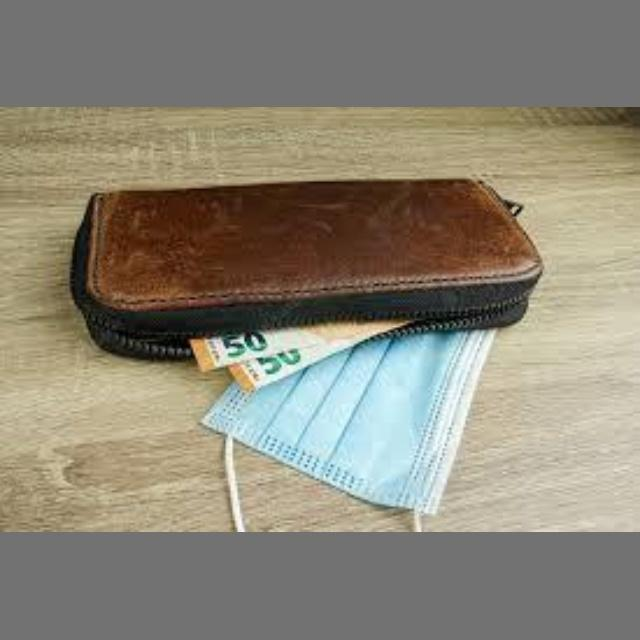Wallet: (83, 174, 539, 350)
